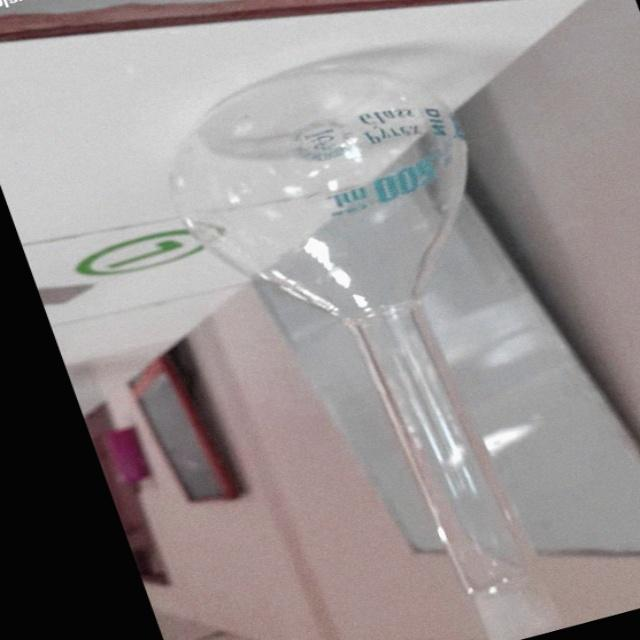Volumetric flask: (131, 36, 639, 640)
